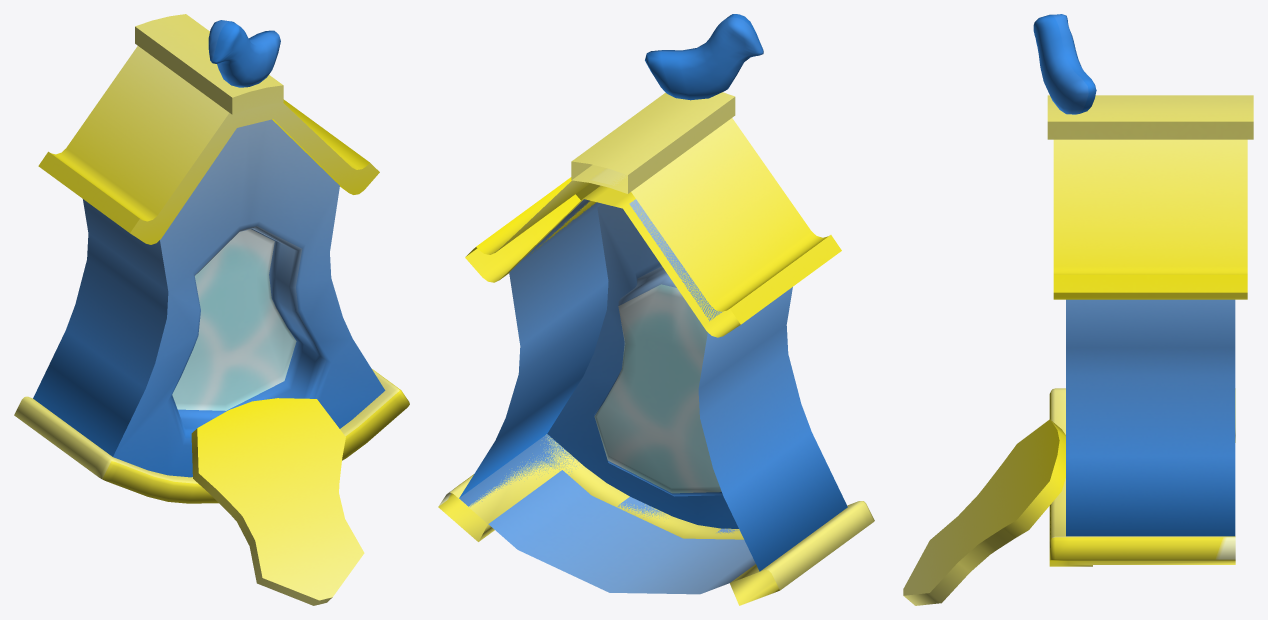
The model's file is Mailbox_E_blue.fbx.
The picture shows the model from 3 angles, left to right: view 1: azimuth 30°, elevation 25°; view 2: azimuth 150°, elevation 25°; view 3: azimuth 270°, elevation 25°; orthographic projection. The views are drawn at different scales.
Visible parts, largest first — view 1: MailboxE_blue; view 2: MailboxE_blue; view 3: MailboxE_blue.
Boxes of the visible parts, x1,y1,x2,y2 form: MailboxE_blue: (14, 14, 409, 605); MailboxE_blue: (438, 14, 874, 605); MailboxE_blue: (903, 14, 1253, 605).
Size of the model in its own units: 1.31 by 1.21 by 2.19.
